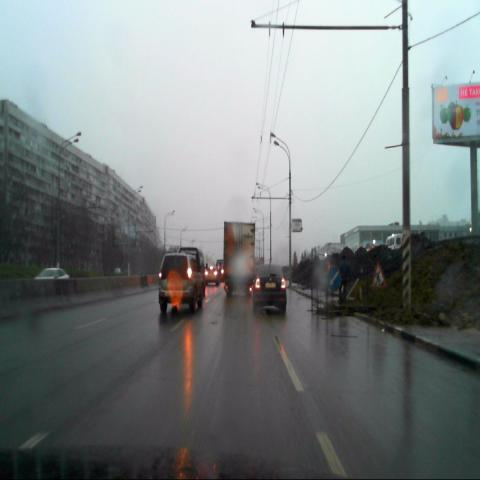1_25: (369, 261, 387, 289)
